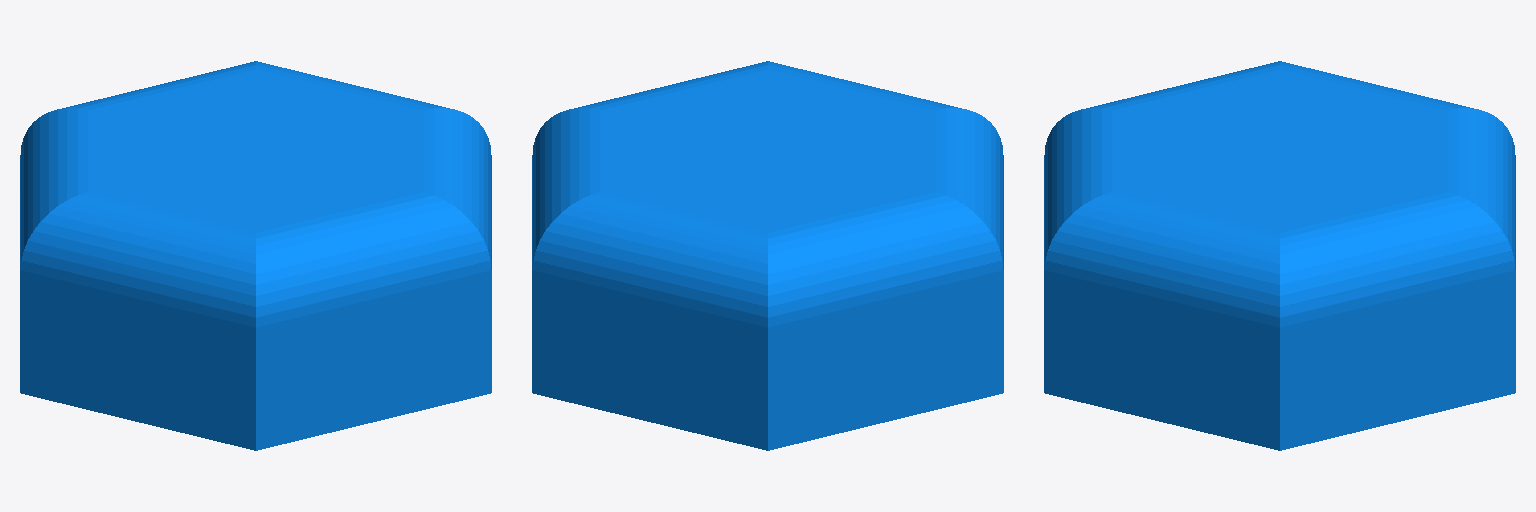
URDF robot description (cube.urdf):
<?xml version="1.0" ?>
<robot name="cube.urdf">
  <link name="baseLink">
    <contact>
    	<friction_anchor/>
    	   <lateral_friction value="0.5"/>
        <rolling_friction value="0.005"/>
        <spinning_friction value="0.005"/>
    </contact>
    <inertial>
      <origin rpy="0 0 0" xyz="0 0 0"/>
       <mass value="0.2"/>
       <inertia ixx="0.01" ixy="0" ixz="0" iyy="0.01" iyz="0" izz="0.01"/>
    </inertial>
    <visual>
      <origin rpy="0 0 0" xyz="0 0 0"/>
      <geometry>
				<mesh filename="hexagon.obj" scale="1 1 1"/>
      </geometry>
       <material name="white">
        <color rgba="0.1 0.6 1 1"/>
      </material>
    </visual>
    <collision>
      <origin rpy="0 0 0" xyz="0 0 0 "/>
      <geometry>
	 	<mesh filename="hexagon.obj" scale="1 1 1"/>
      </geometry>
    </collision>
  </link>
</robot>

--- What the picture shows (computed from the rendered views, not written in the file) ---
3 views of the same robot in one strip: view 1: azimuth 30°, elevation 25°; view 2: azimuth 150°, elevation 25°; view 3: azimuth 270°, elevation 25° (orthographic).
Robot: cube.urdf — 1 links, 0 joints (none); root link baseLink; default pose: all joints at 0.
Links seen in each view (by area): view 1: baseLink; view 2: baseLink; view 3: baseLink.
Link boxes in pixels (bbox=[...]): baseLink: bbox=[20, 61, 491, 450]; baseLink: bbox=[532, 61, 1003, 450]; baseLink: bbox=[1044, 61, 1515, 450].
Size in the robot's own frame: 0.008 by 0.0069 by 0.003 metres.
Meshes: 1 distinct files referenced, 1 mesh visuals loaded (1 OBJ).